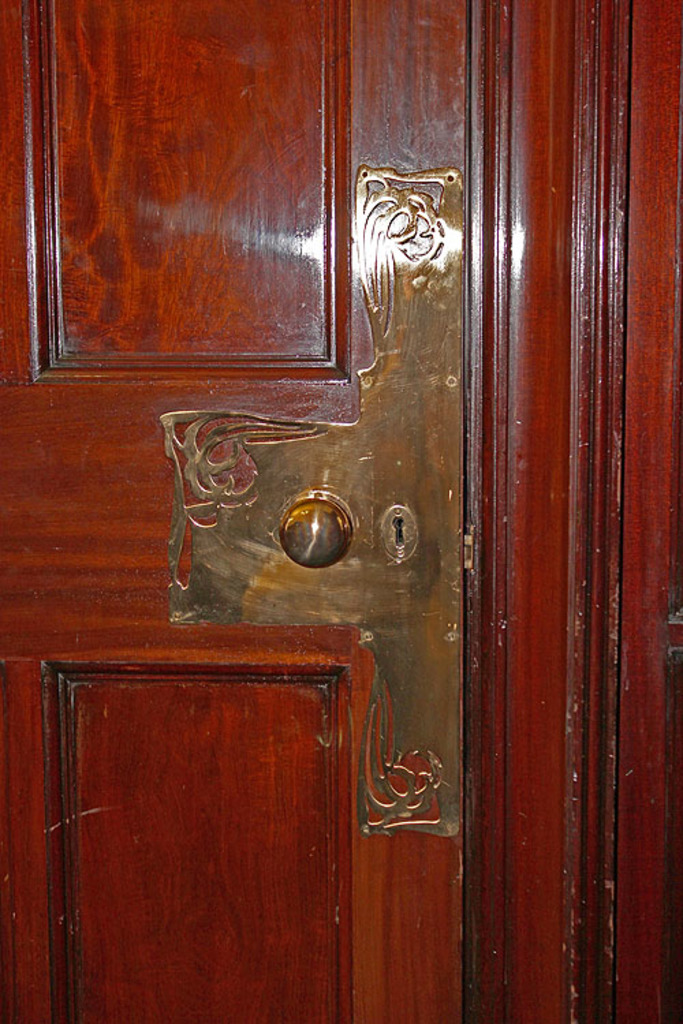door: (16, 34, 451, 966)
handle: (274, 478, 359, 600)
